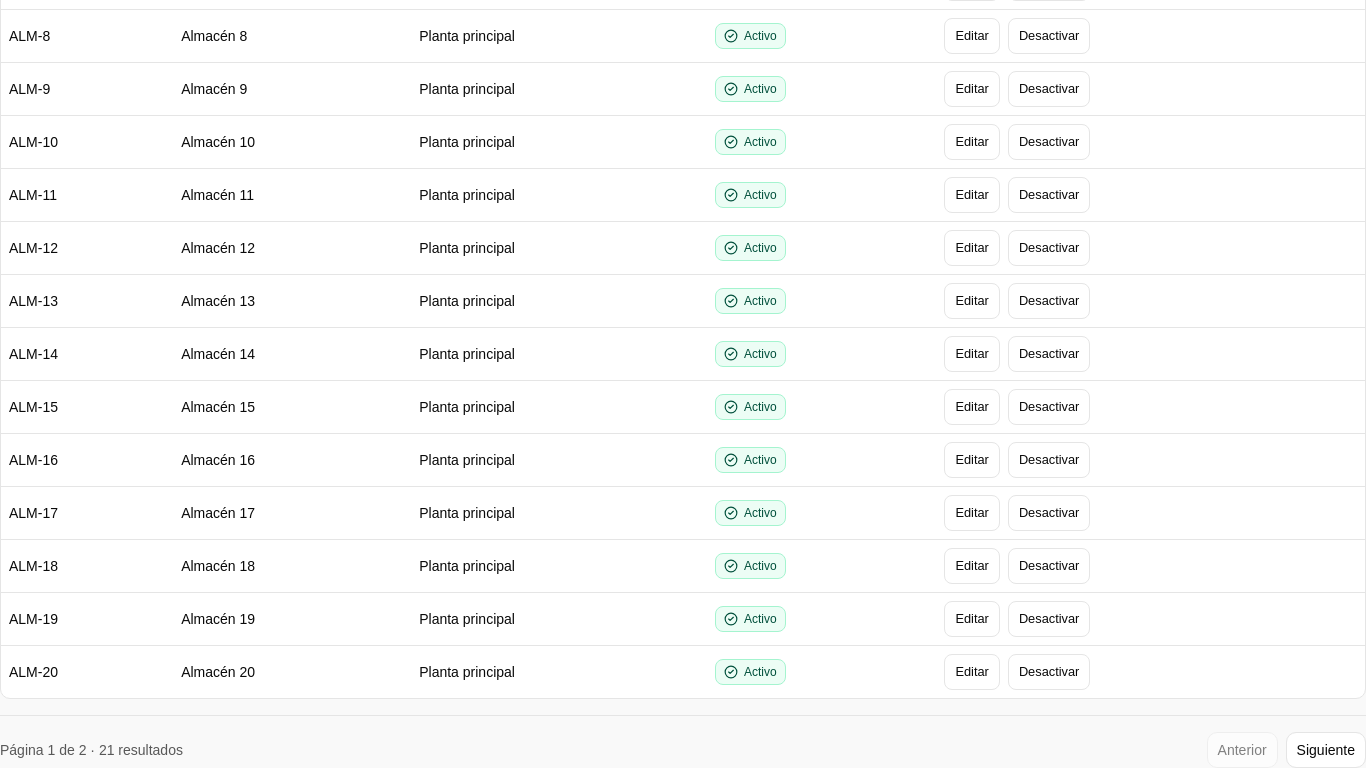
Test case: Almacenes: interfaz de Inventario › consulta la página siguiente en el servidor
(page scrolled)
Click the button "Siguiente" at [1326, 750], box [1286, 732, 1365, 767]
(page scrolled)
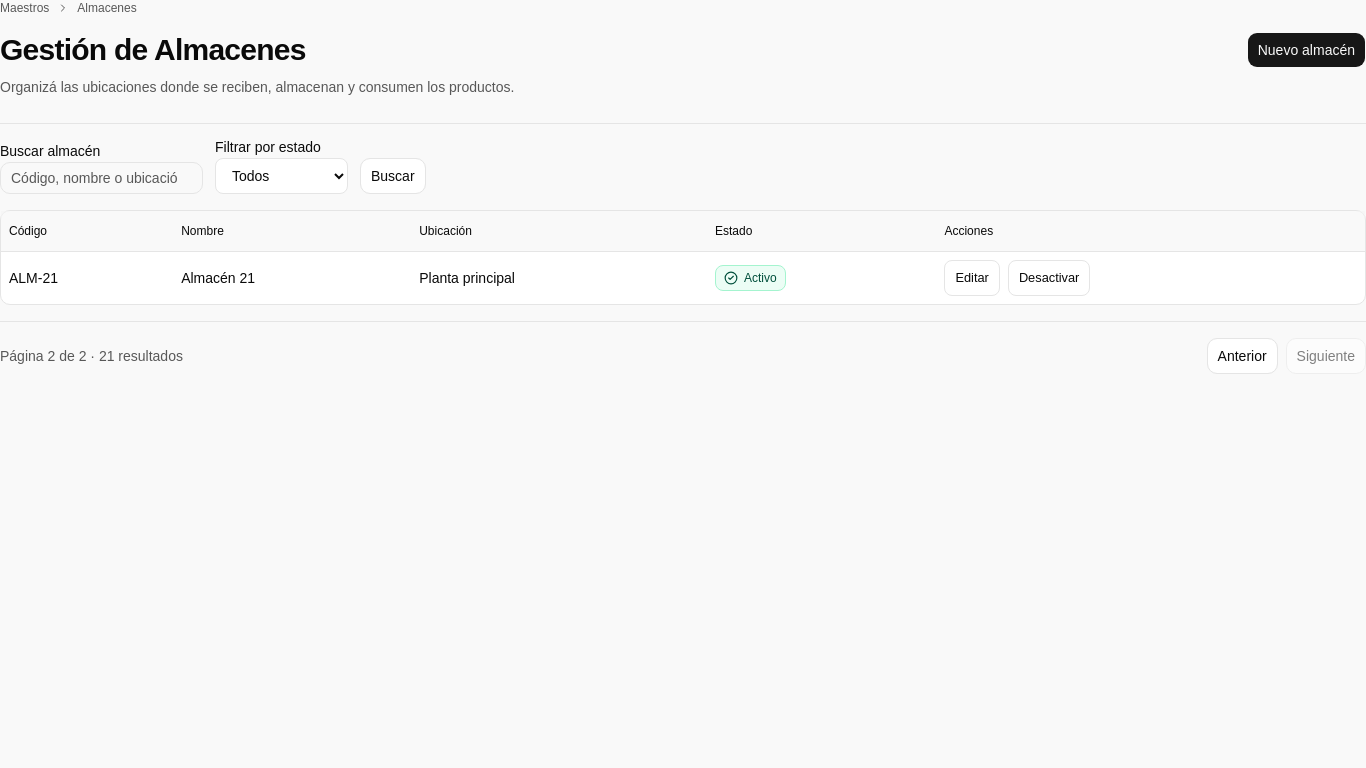
expect the text "Almacén 21" is shown: met, box [173, 251, 411, 304]
expect the text "Almacén 1" is gone: met
expect the text "Página 2 de 2 · 21 resultados" is shown: met, box [0, 346, 183, 366]
